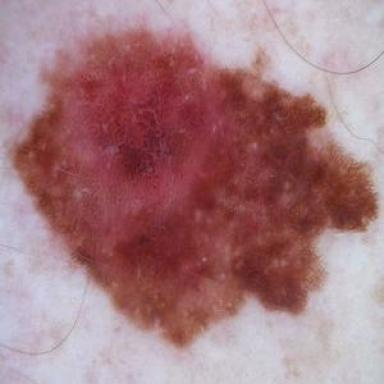Melanoma: (7, 29, 376, 344)
